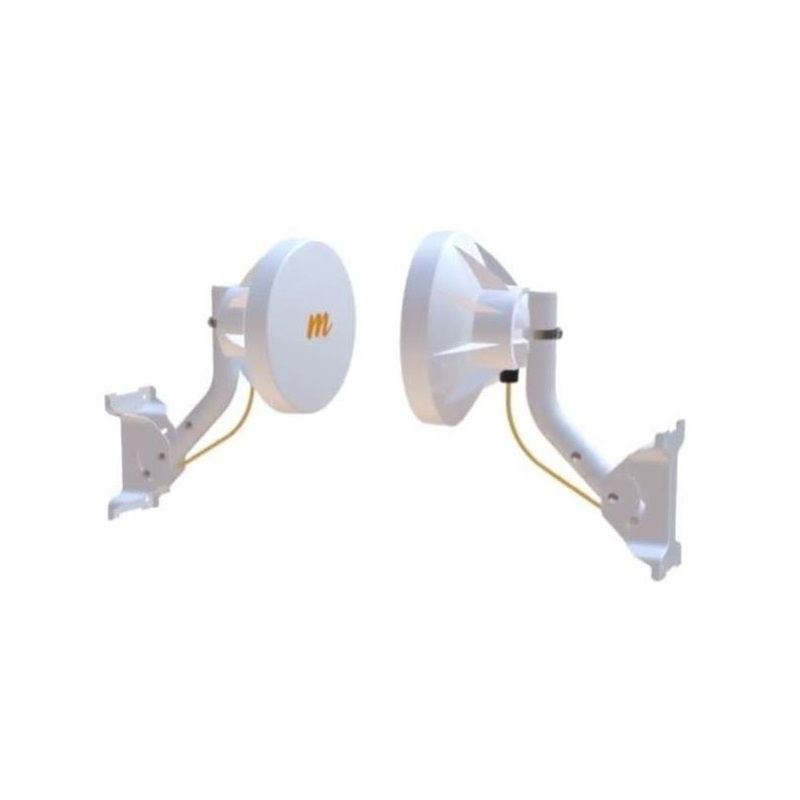ba: (196, 232, 358, 430), (403, 224, 524, 436)
